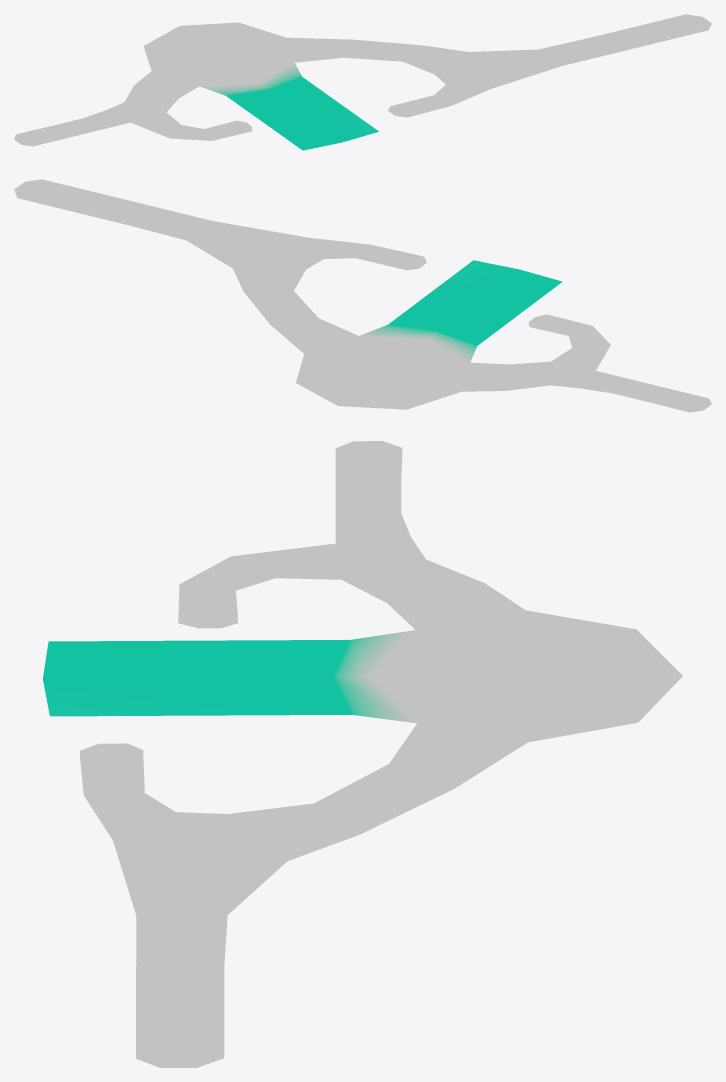
File: Wind Level Mesh Old.fbx
3 renders of one model, top to bottom at view 1: azimuth 30°, elevation 25°; view 2: azimuth 150°, elevation 25°; view 3: azimuth 270°, elevation 25°, orthographic. The views are drawn at different scales.
Parts seen in each view (by area): view 1: Plane; view 2: Plane; view 3: Plane.
Part boxes in pixels (x1,y1,x2,y2): Plane: (14,14,711,150); Plane: (14,179,711,412); Plane: (43,441,682,1067).
Bounding box in the file's own units: 5598 × 0.000394 × 2417.
